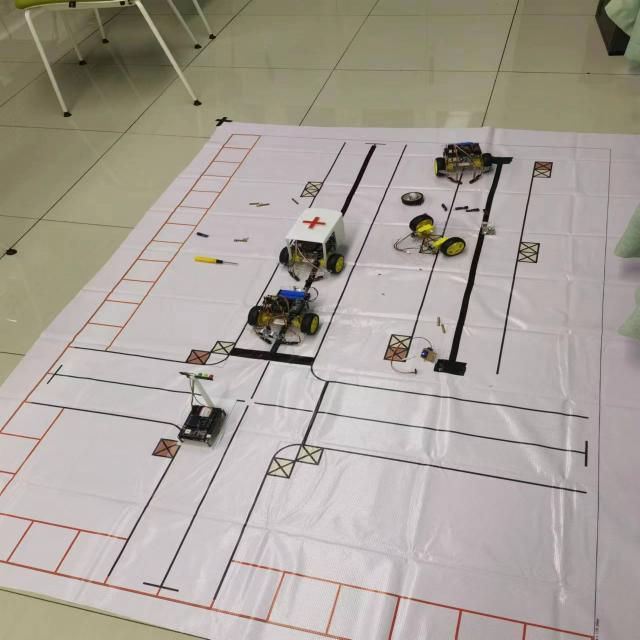RedCross: (302, 213, 328, 230)
